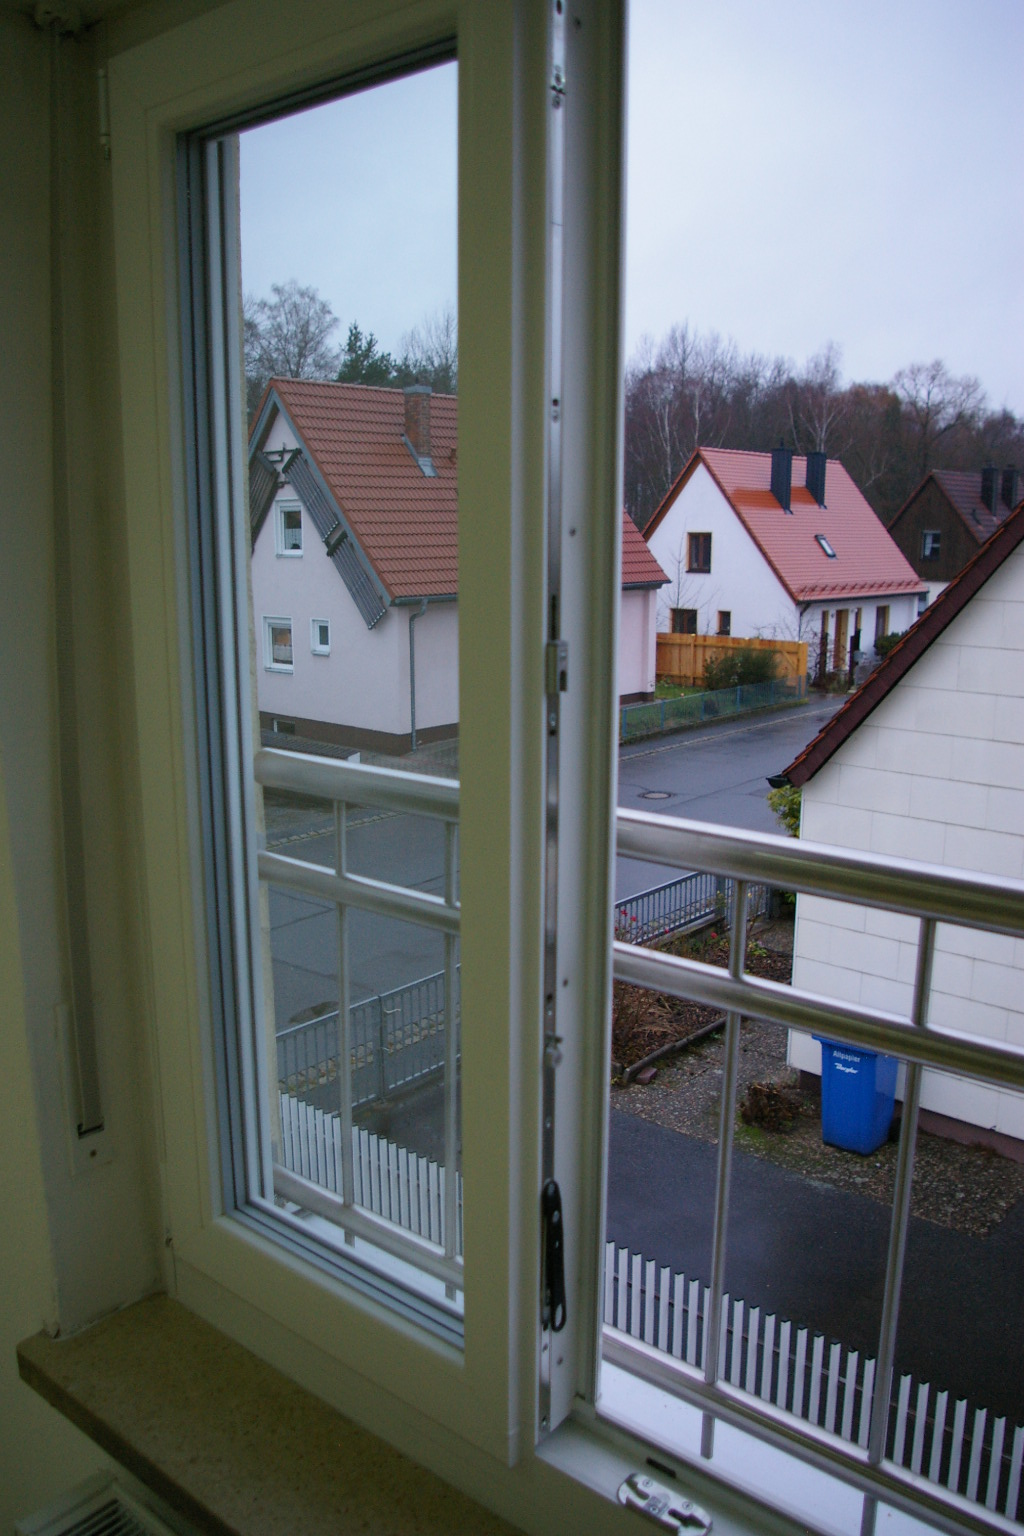windows: (103, 56, 1023, 1507)
